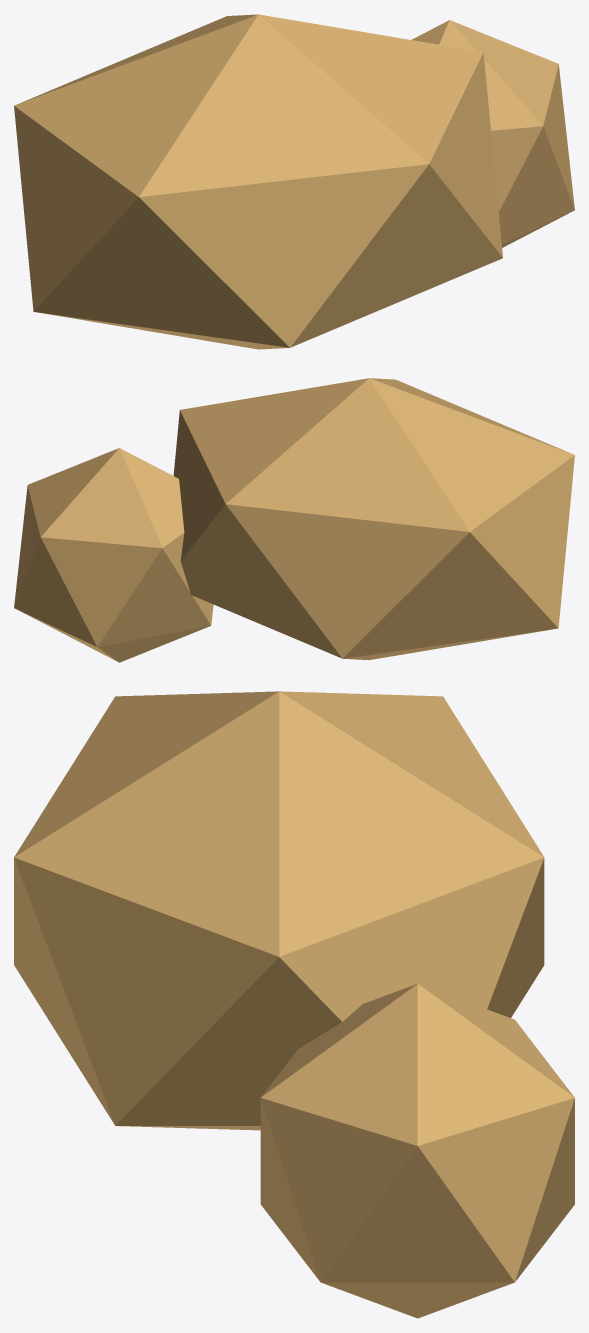
Rendered from crumb.glb.
The picture shows the model from 3 angles, top to bottom: view 1: azimuth 30°, elevation 25°; view 2: azimuth 150°, elevation 25°; view 3: azimuth 270°, elevation 25°; orthographic projection. The views are drawn at different scales.
Parts seen in each view (by area): view 1: crumb; view 2: crumb; view 3: crumb.
Part boxes in pixels (left/top/right/bottom): crumb: left=14, top=14, right=574, bottom=349; crumb: left=14, top=378, right=574, bottom=662; crumb: left=14, top=691, right=574, bottom=1318.
Bounding box in the file's own units: 0.0379 × 0.0225 × 0.0243.
